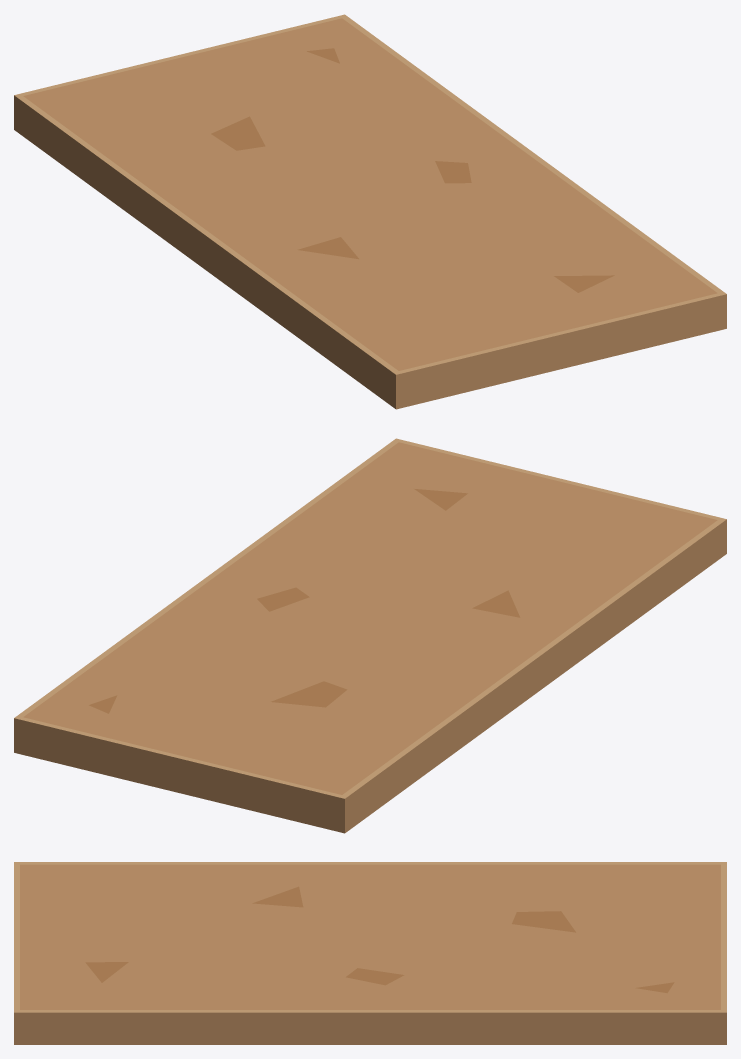
File: ConcrateSlabs_E_3_3.fbx
3 renders of one model, top to bottom at view 1: azimuth 30°, elevation 25°; view 2: azimuth 150°, elevation 25°; view 3: azimuth 270°, elevation 25°, orthographic. The views are drawn at different scales.
Visible parts, largest first — view 1: ConcrateSlabs_E_3_3; view 2: ConcrateSlabs_E_3_3; view 3: ConcrateSlabs_E_3_3.
Boxes of the visible parts, x1,y1,x2,y2 form: ConcrateSlabs_E_3_3: [14, 14, 726, 409]; ConcrateSlabs_E_3_3: [14, 438, 726, 833]; ConcrateSlabs_E_3_3: [14, 862, 726, 1044].
Size of the model in its own units: 400 by 40 by 800.
